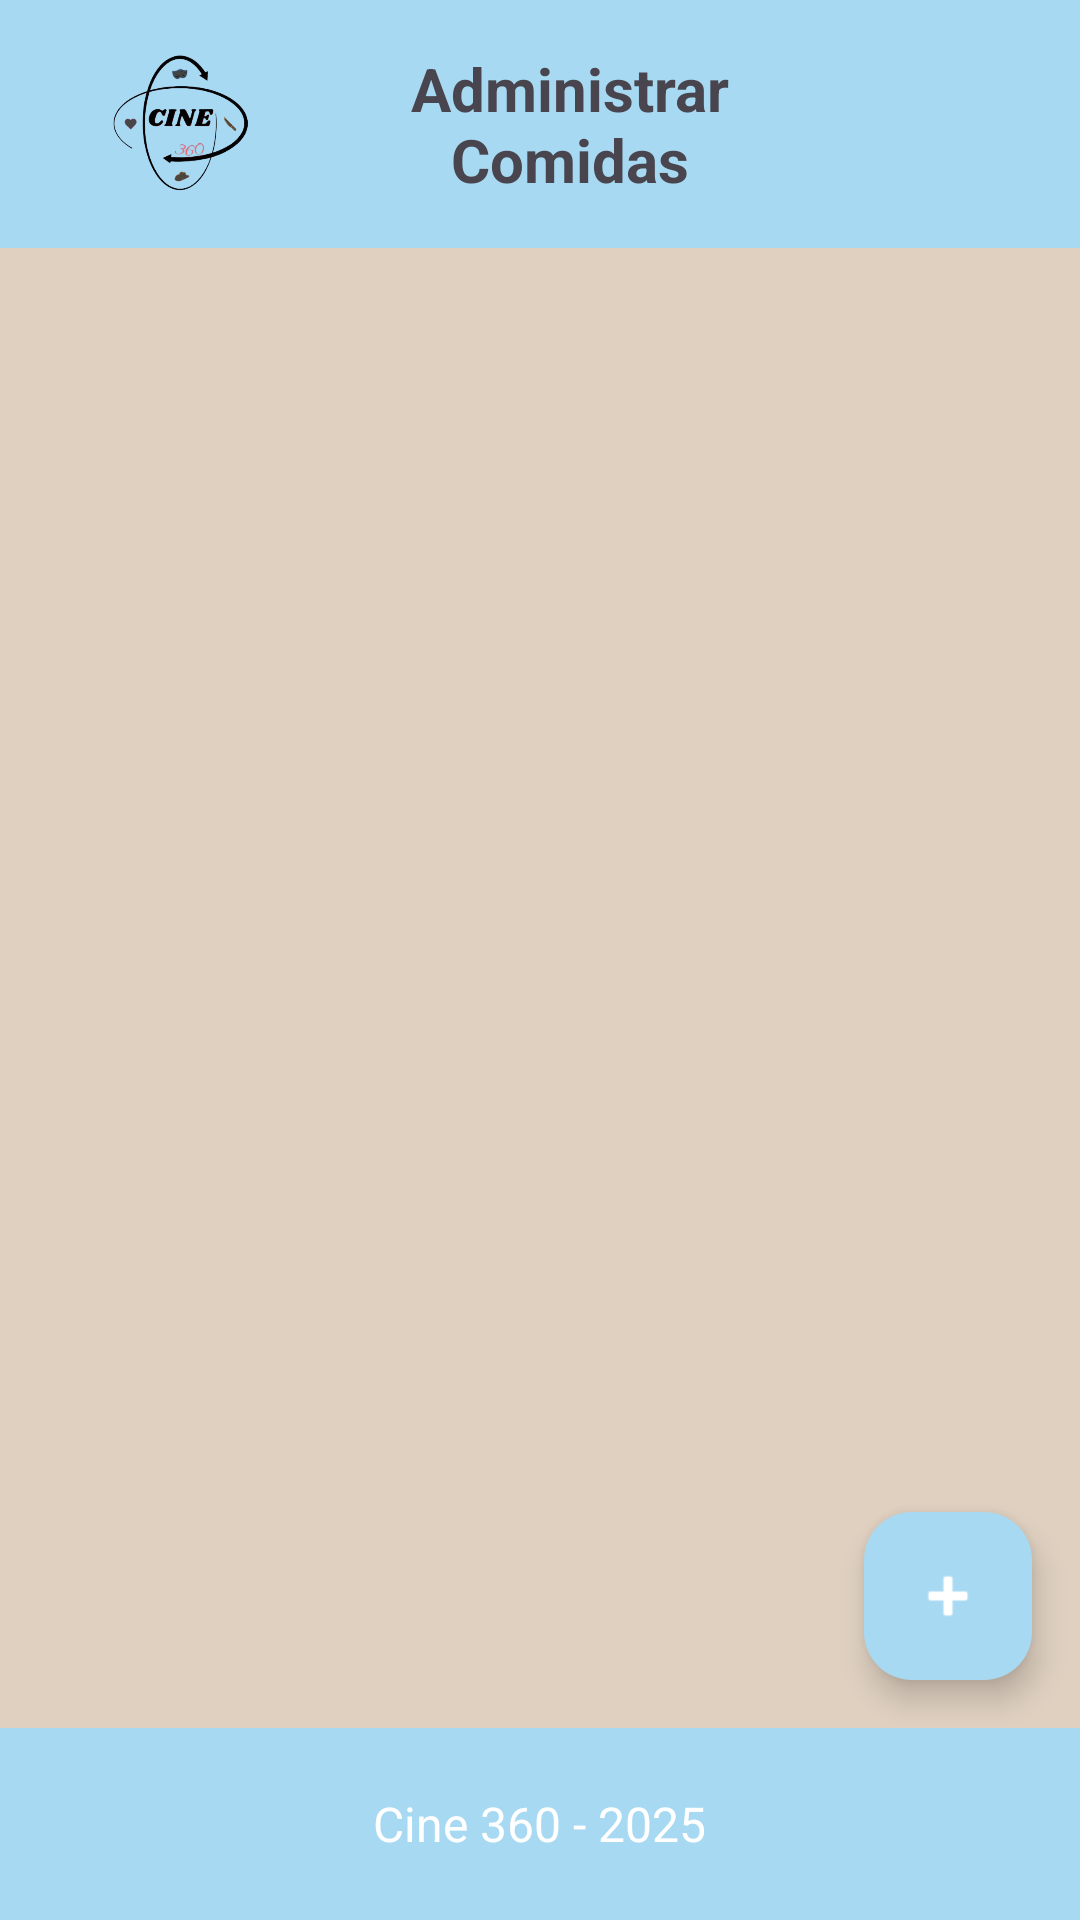

Icons on this 1080×1920 Android screen, each with the point to tap as (x,y):
add: (948,1596)
